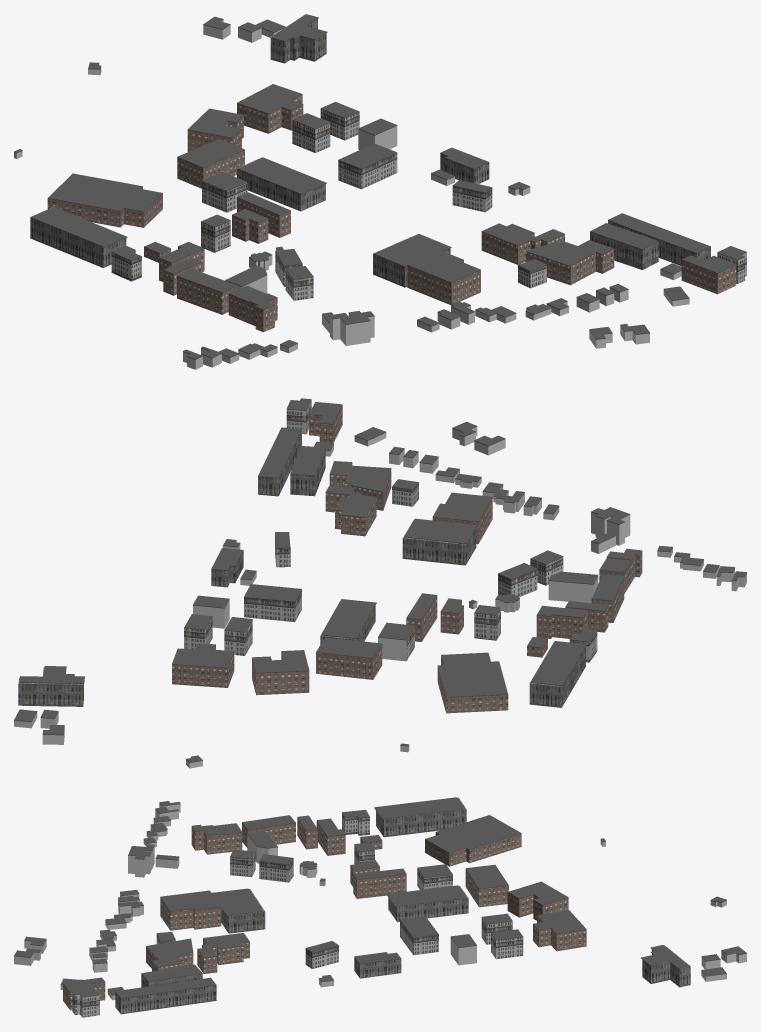
The model's file is Town_Building_1.fbx.
The picture shows the model from 3 angles, top to bottom: view 1: azimuth 30°, elevation 25°; view 2: azimuth 150°, elevation 25°; view 3: azimuth 270°, elevation 25°; orthographic projection. The views are drawn at different scales.
Visible parts, largest first — view 1: map_3.osm_buildings; view 2: map_3.osm_buildings; view 3: map_3.osm_buildings.
Boxes of the visible parts, x1=… form: map_3.osm_buildings: x1=14, y1=14, x2=746, y2=369; map_3.osm_buildings: x1=14, y1=398, x2=746, y2=768; map_3.osm_buildings: x1=14, y1=797, x2=746, y2=1017.
Bounding box in the file's own units: 42065 × 2274 × 61758.
